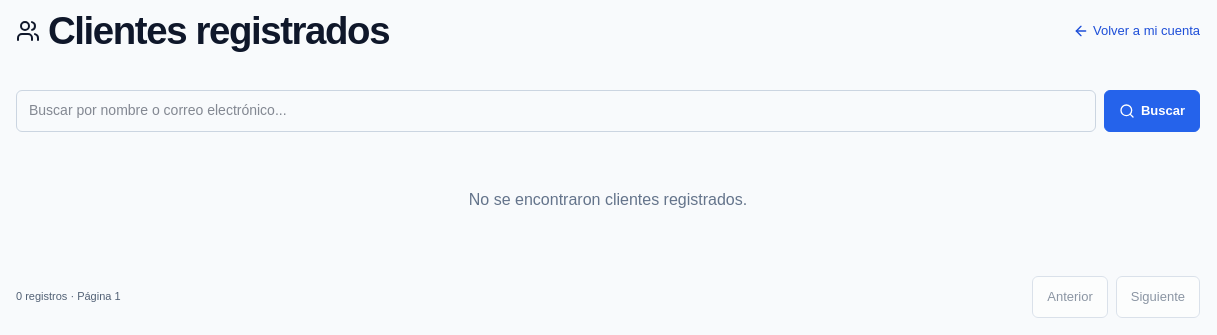
it: CustomerList (CO-62 HU-19) › shows empty results and blocks non-admin access with a clear error
This screenshot has width=1217, height=335.
expect the text "No se encontraron clientes registrados." is shown: met, box [469,191,747,208]
Click the button "Buscar" at [1152, 111], box [1104,90,1200,132]
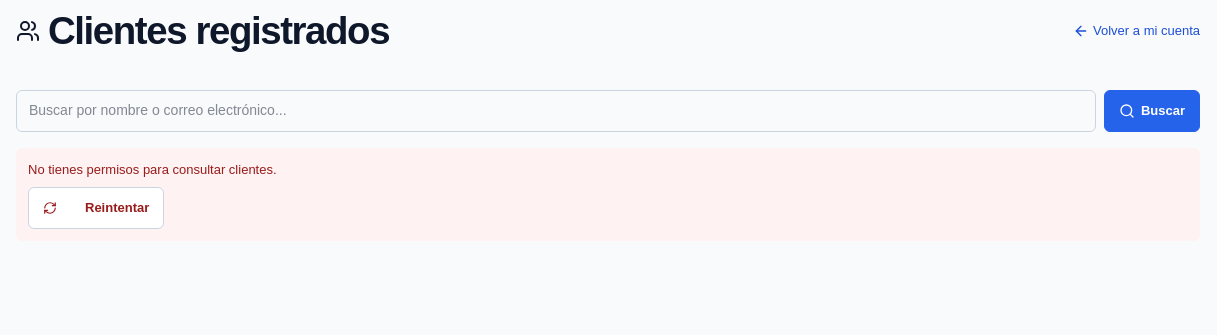
expect the message shows "No tienes permisos para consultar clientes.": met, box [28,162,277,177]
